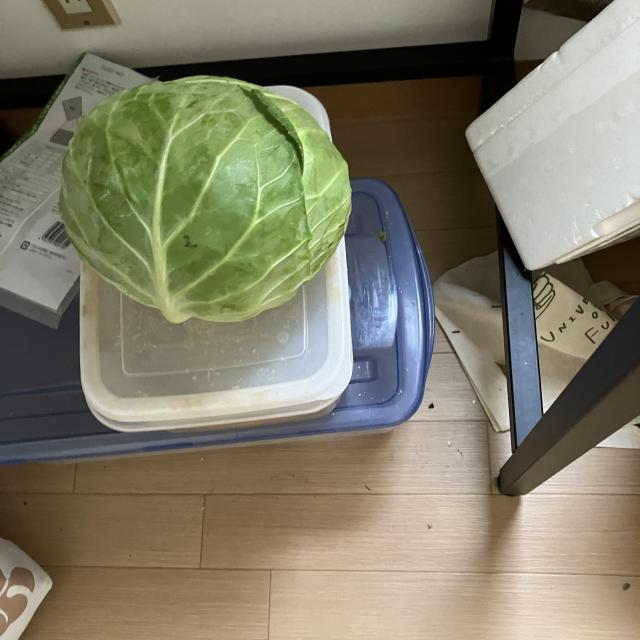cabbage: (53, 76, 355, 331)
